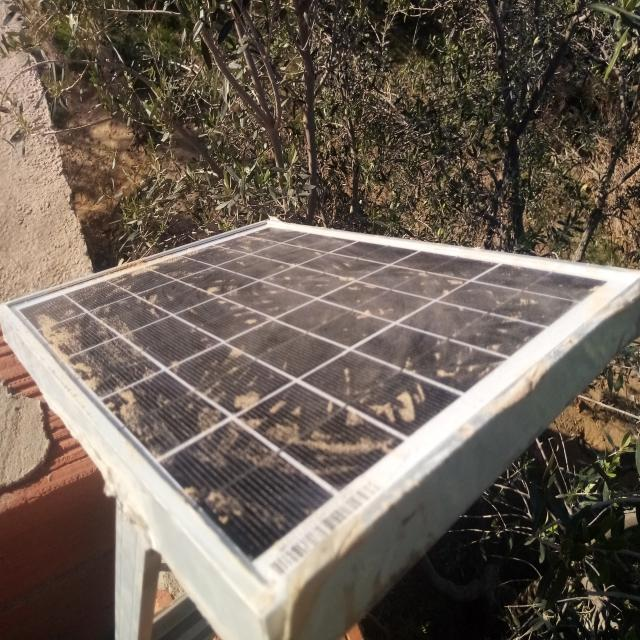faulty: (3, 217, 640, 609)
